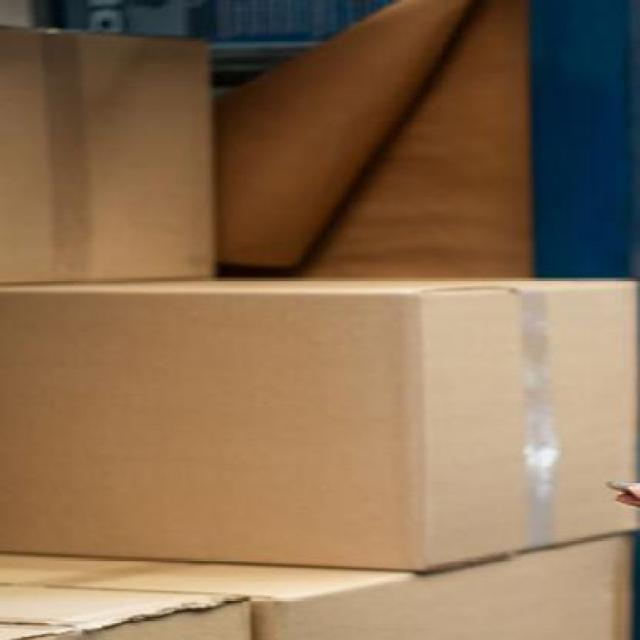box: (0, 277, 639, 576), (0, 527, 631, 640), (0, 21, 216, 280), (0, 584, 252, 639)
